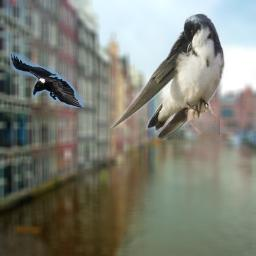Crow: (10, 52, 84, 108)
Swallow: (110, 11, 227, 141)
